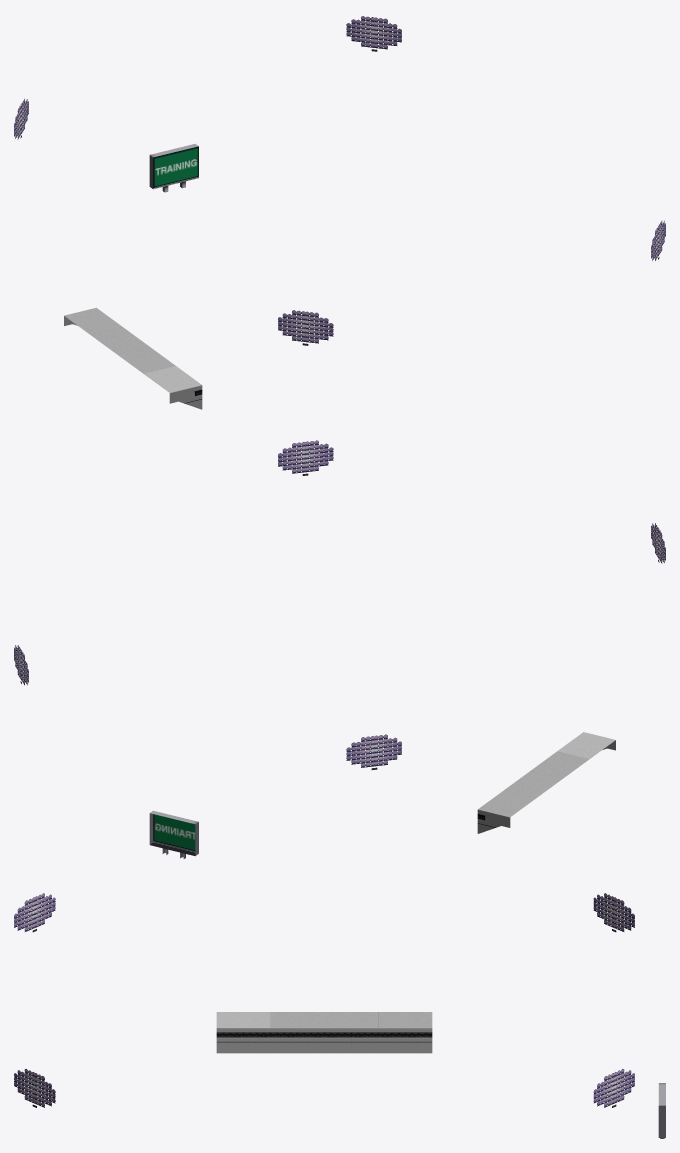
The picture shows the model from 3 angles, top to bottom: view 1: azimuth 30°, elevation 25°; view 2: azimuth 150°, elevation 25°; view 3: azimuth 270°, elevation 25°; orthographic projection.
Size of the model in its own units: 115 by 42.19 by 153.
Materials: 6 (6 with a texture image).
